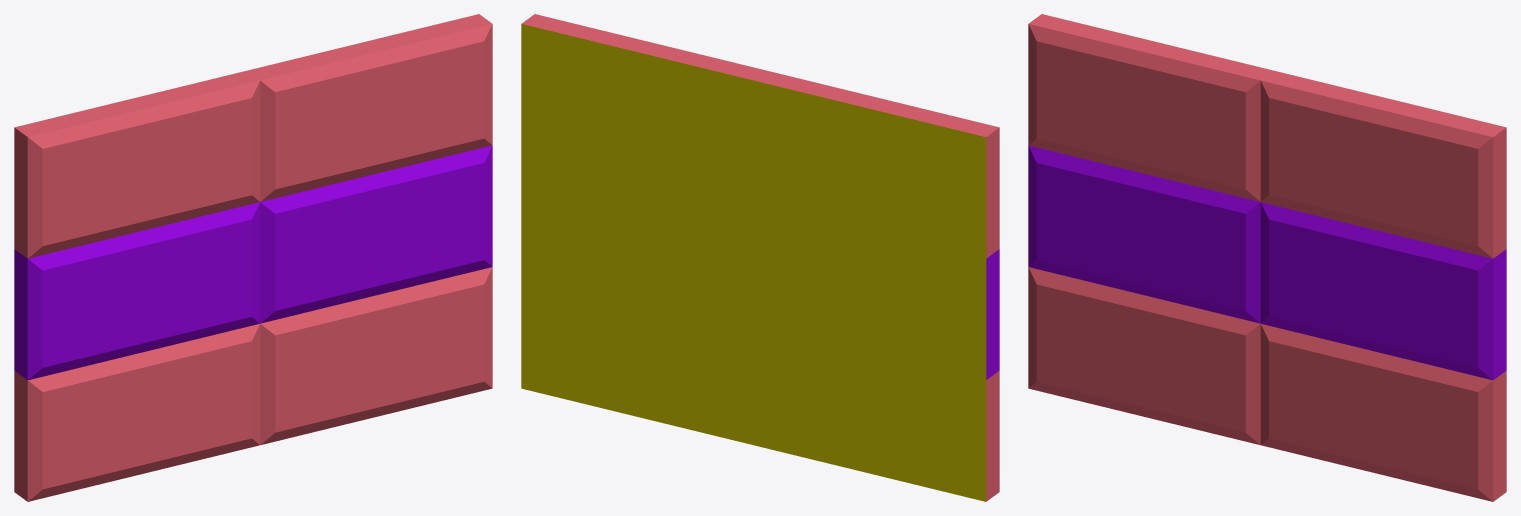
The model's file is wall-scifi-stripe.fbx.
3 views of the same model, side by side, from view 1: azimuth 30°, elevation 25°; view 2: azimuth 150°, elevation 25°; view 3: azimuth 330°, elevation 25° (orthographic).
Parts seen in each view (by area): view 1: wall-scifi-stripe; view 2: wall-scifi-stripe; view 3: wall-scifi-stripe.
Boxes of the visible parts, box(x1,y1,x2,y2) form: wall-scifi-stripe: box(14, 14, 492, 501); wall-scifi-stripe: box(521, 14, 999, 501); wall-scifi-stripe: box(1028, 14, 1506, 501).
Bounding box in the file's own units: 4 × 3 × 0.25.
